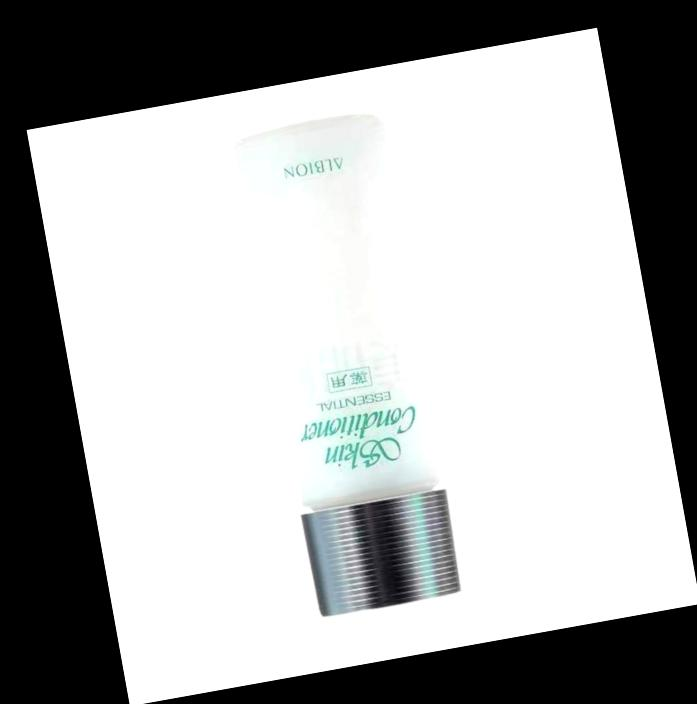cosmetic: (231, 108, 472, 621)
